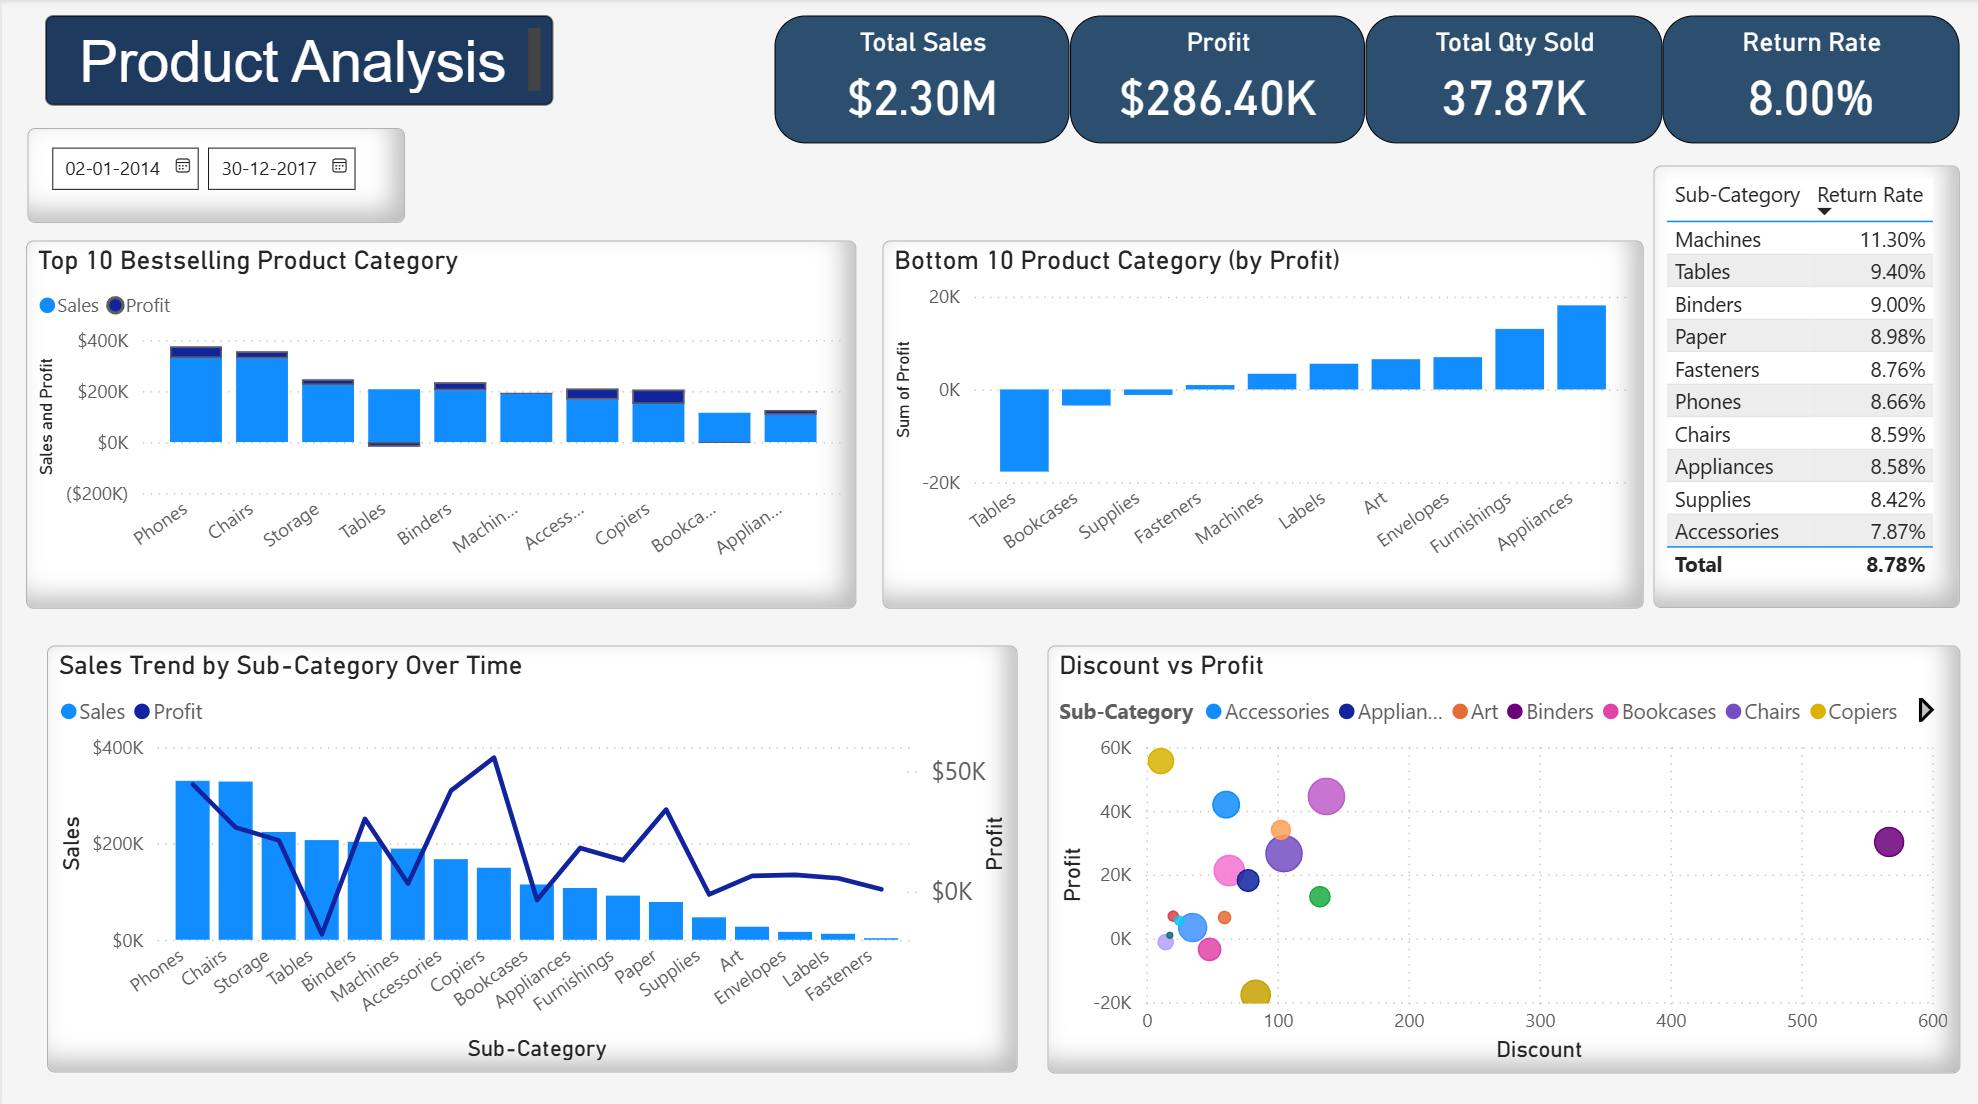

What the dashboard file says about the page in this screenshot:
{"tool":"powerbi","page":{"name":"Product Dashboard","canvas":[1280,720],"ordinal":1},"visuals":[{"type":"card","title":"Total Sales","fields":{"Values":["Calendar Table.Sum of Sales"]},"box":[499.6,10.2,190.9,82.5],"z":0},{"type":"card","title":"Return Rate","fields":{"Values":["Calendar Table.Overall_Return_Rate"]},"box":[1073.3,10.2,191.9,82.5],"z":1000},{"type":"textbox","box":[28.5,10.6,328.2,58],"z":2000},{"type":"lineClusteredColumnComboChart","title":"Sales Trend by Sub-Category Over Time","fields":{"Category":["Retails Order Full Dataset.Sub-Category"],"Y":["select","Calendar Table.Sum of Sales"],"Y2":["Calendar Table.Sum of Profit"]},"box":[28.7,418,627.5,276.2],"z":3000},{"type":"scatterChart","title":"Discount vs Profit","fields":{"Y":["Sum(Retails Order Full Dataset.Profit)"],"X":["Sum(Retails Order Full Dataset.Discount)"],"Size":["Calendar Table.Sum of Sales"],"Series":["Retails Order Full Dataset.Sub-Category"]},"box":[675.4,417.9,589.9,276.5],"z":4000},{"type":"columnChart","title":"Top 10 Bestselling Product Category","fields":{"Y":["Calendar Table.Sum of Sales","Calendar Table.Sum of Profit"],"Category":["Retails Order Full Dataset.Sub-Category"]},"box":[15.8,155.7,536.7,238.2],"z":5000},{"type":"tableEx","title":"Most Returned Products Category (Top 10)","fields":{"Values":["Retails Order Full Dataset.Sub-Category","Calendar Table.Overall_Return_Rate"]},"box":[1067.5,107.8,197.9,285.8],"z":6000},{"type":"columnChart","title":"Bottom 10 Product Category (by Profit)","fields":{"Y":["Calendar Table.Sum of Profit"],"Category":["Retails Order Full Dataset.Sub-Category"]},"box":[569.1,155.7,492.2,238.2],"z":7000},{"type":"card","title":"Total Qty Sold","fields":{"Values":["Sum(Retails Order Full Dataset.Quantity)"]},"box":[881.4,10.2,191.9,82.5],"z":8000},{"type":"card","title":"Profit","fields":{"Values":["Calendar Table.Sum of Profit"]},"box":[690.5,10.2,190.9,82.5],"z":9000},{"type":"slicer","fields":{"Values":["Retails Order Full Dataset.Order Date"]},"box":[16.2,83.5,244.2,61],"z":10000}]}

Visuals, with their boxes in screenshot pixels (x1, y1, x2, y2), scaled from the page's 1280x720 canvas onto the 1978x1104 screenshot:
"Total Sales" card: [772,16,1067,142]
"Return Rate" card: [1659,16,1955,142]
textbox: [44,16,551,105]
"Sales Trend by Sub-Category Over Time" lineClusteredColumnComboChart: [44,641,1014,1064]
"Discount vs Profit" scatterChart: [1044,641,1955,1065]
"Top 10 Bestselling Product Category" columnChart: [24,239,854,604]
"Most Returned Products Category (Top 10)" tableEx: [1650,165,1955,604]
"Bottom 10 Product Category (by Profit)" columnChart: [879,239,1640,604]
"Total Qty Sold" card: [1362,16,1659,142]
"Profit" card: [1067,16,1362,142]
slicer - Retails Order Full Dataset.Order Date: [25,128,402,222]
